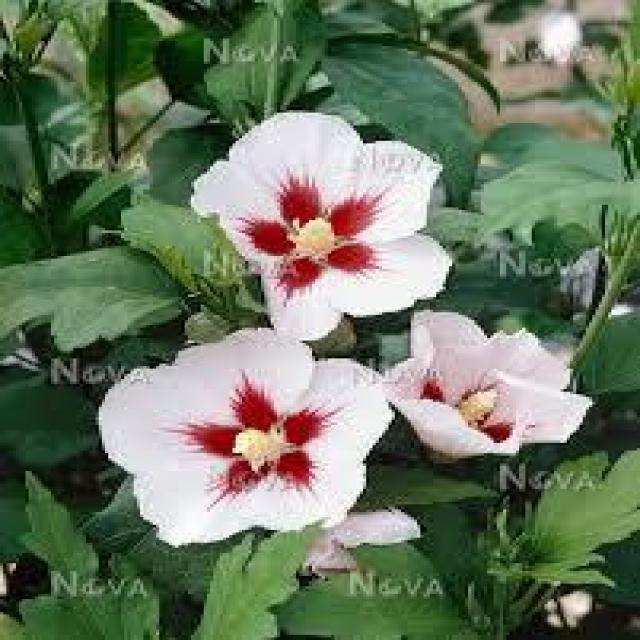organic waste: (69, 325, 394, 530), (194, 94, 459, 336), (372, 291, 580, 449)
